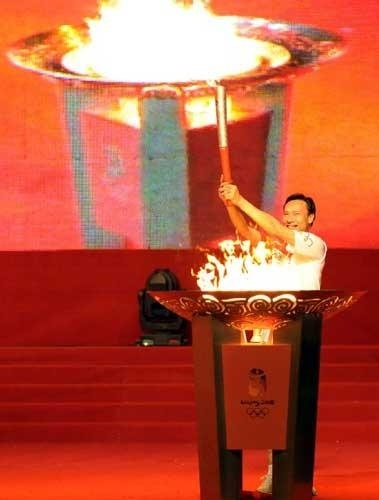fire: (53, 0, 280, 81), (190, 234, 318, 289), (184, 91, 240, 126)
